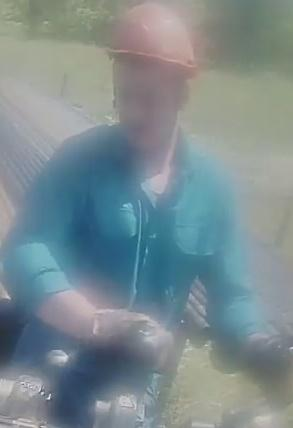gloves: (89, 306, 173, 377), (251, 330, 293, 401)
helmet: (101, 1, 198, 74)
vest: (52, 123, 218, 386)
